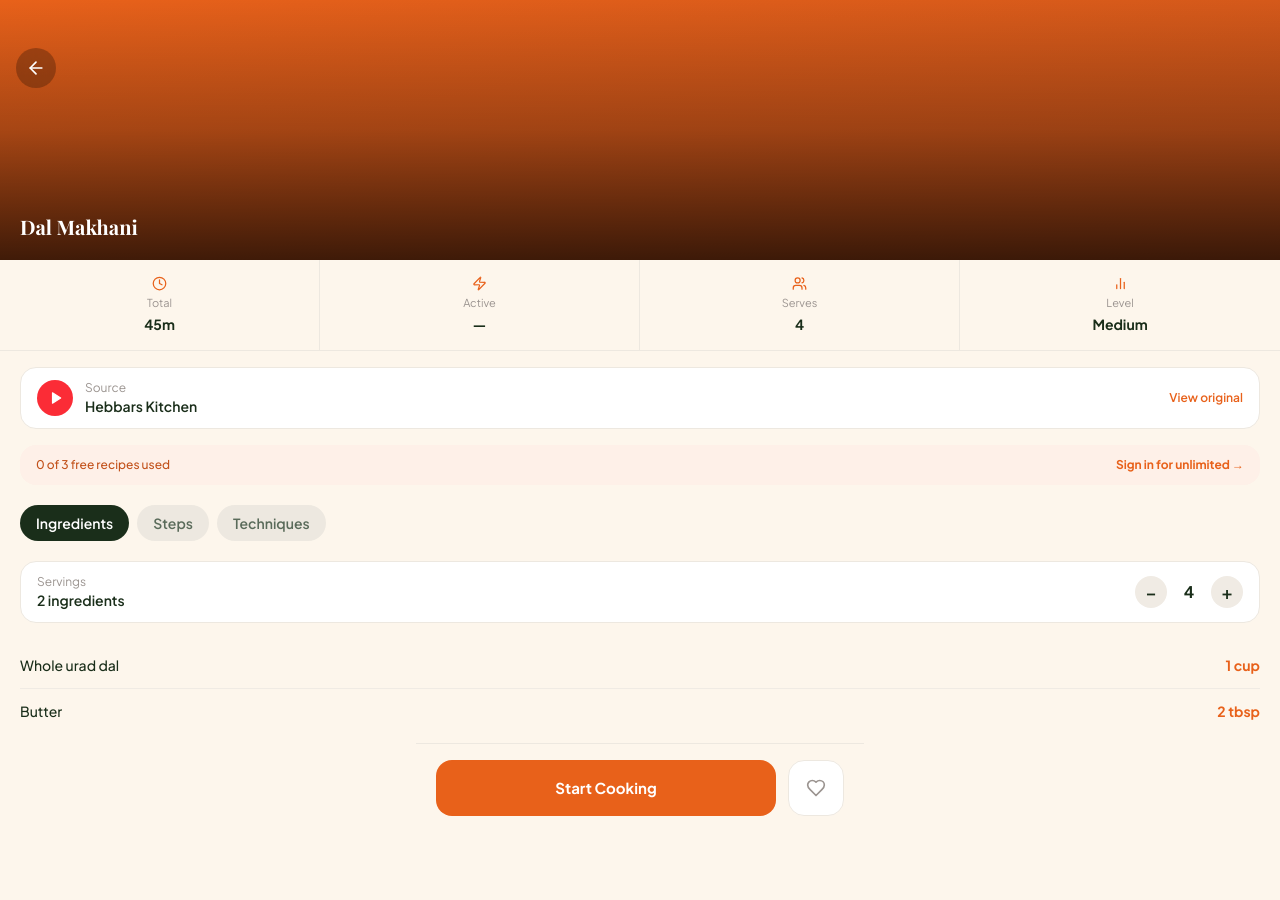
Test: RecipePage › switches to steps tab on click
Click the button "steps" at point(173, 522), box [137, 504, 209, 540]
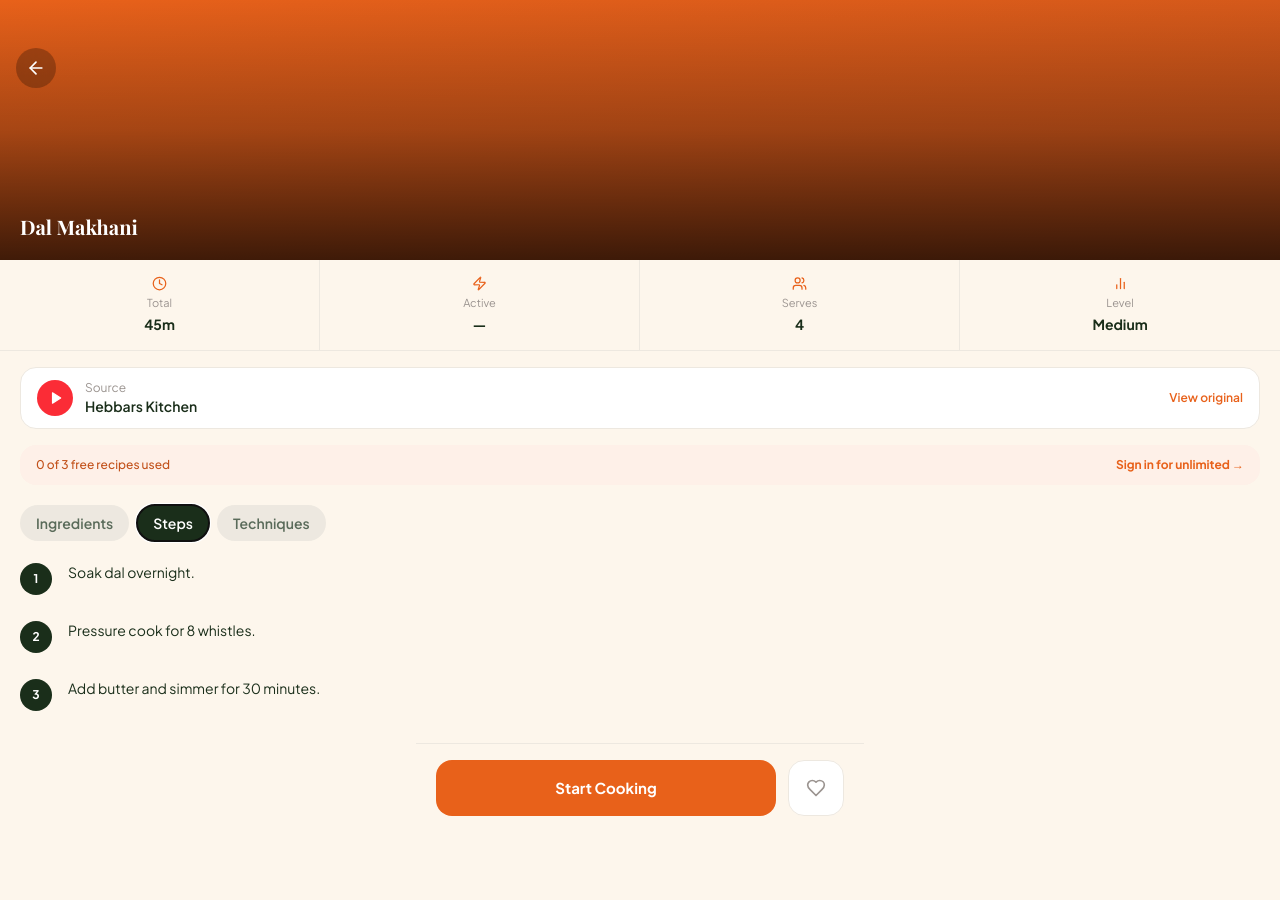
Result: the text "Soak dal overnight." is shown at [68, 562, 195, 580]
